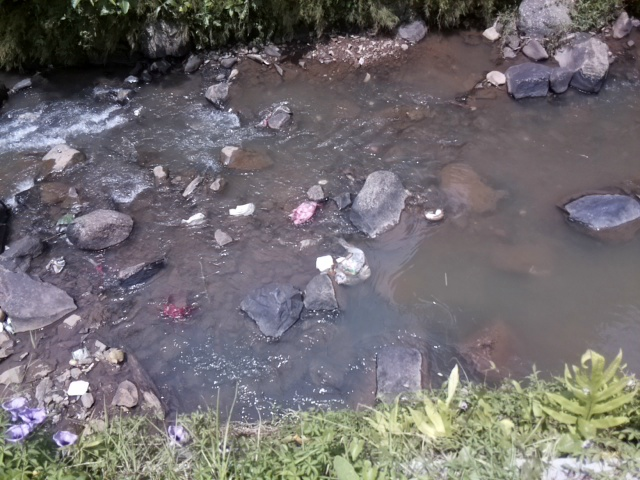Sampah_Plastik: (338, 240, 370, 287), (290, 200, 320, 227), (161, 303, 196, 321)
Sampah_Styrofoam: (314, 254, 335, 273), (227, 202, 252, 216), (65, 380, 89, 394)
